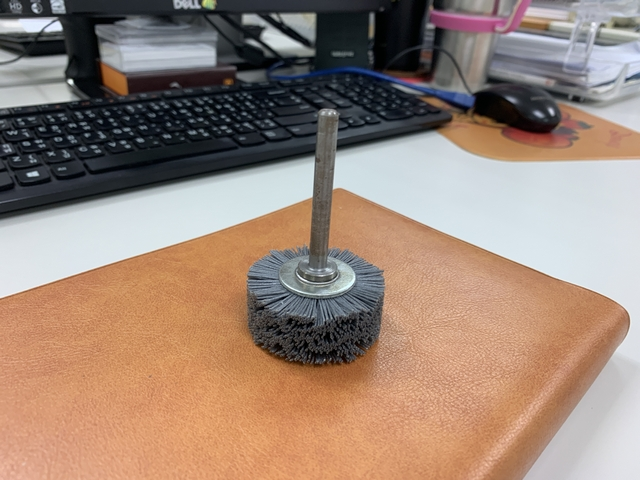Wheel Brush: (238, 100, 392, 383), (244, 109, 398, 360)
